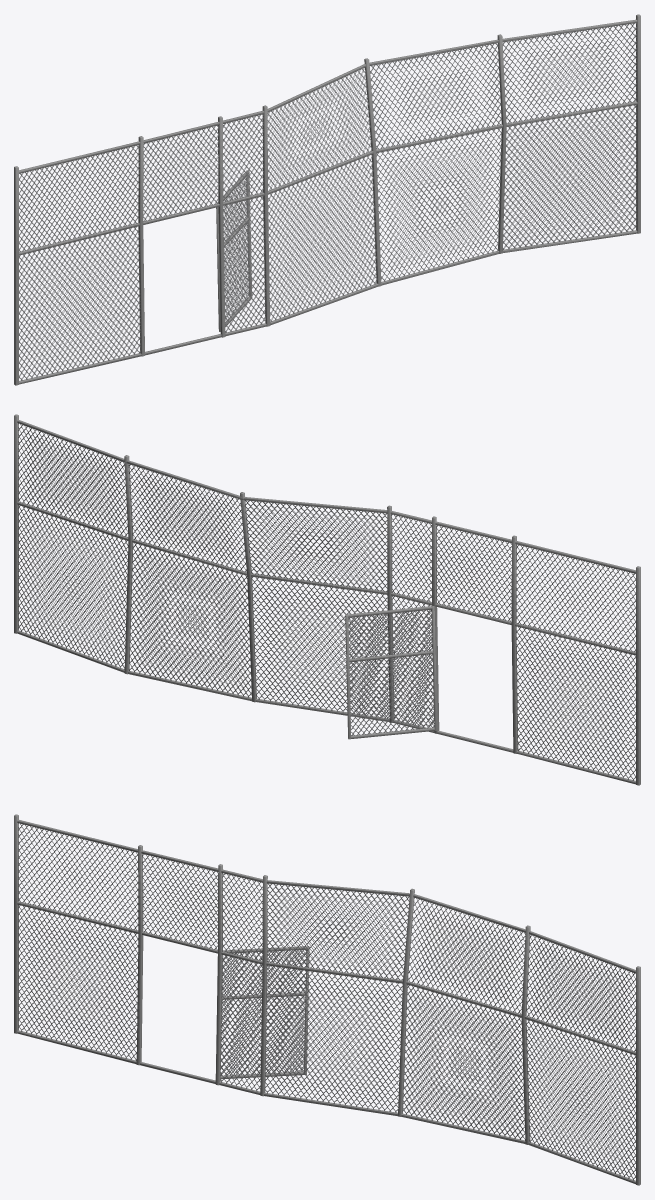
File: FenceMetal01_8.FBX
3 renders of one model, top to bottom at view 1: azimuth 30°, elevation 25°; view 2: azimuth 150°, elevation 25°; view 3: azimuth 330°, elevation 25°, orthographic.
Visible parts, largest first — view 1: FenceMetal03; view 2: FenceMetal03; view 3: FenceMetal03.
Boxes of the visible parts, x1=… form: FenceMetal03: x1=14, y1=14, x2=640, y2=385; FenceMetal03: x1=14, y1=414, x2=640, y2=785; FenceMetal03: x1=14, y1=814, x2=640, y2=1185.
Size of the model in its own units: 246 by 81.94 by 23.57.
